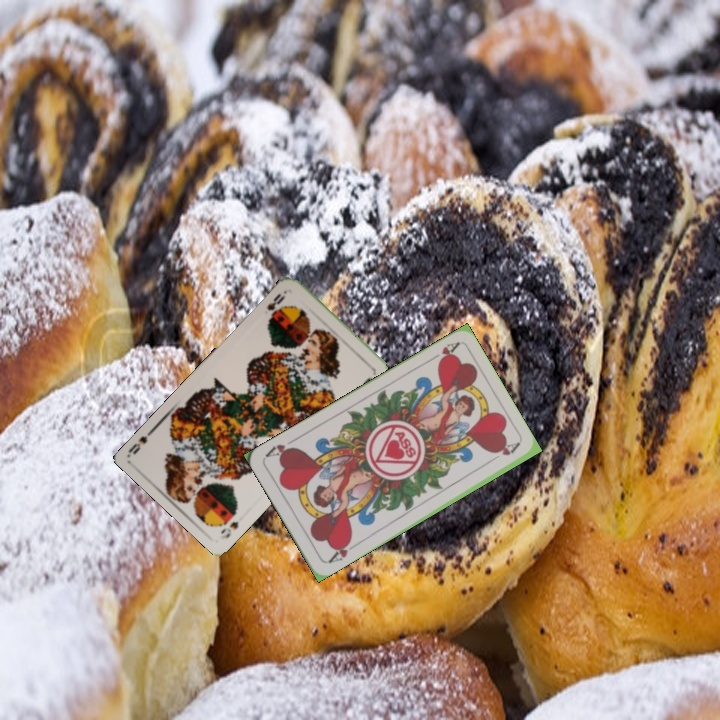HA: (324, 536, 360, 566), (424, 338, 461, 366)
SO: (263, 289, 288, 313), (216, 517, 241, 541)
